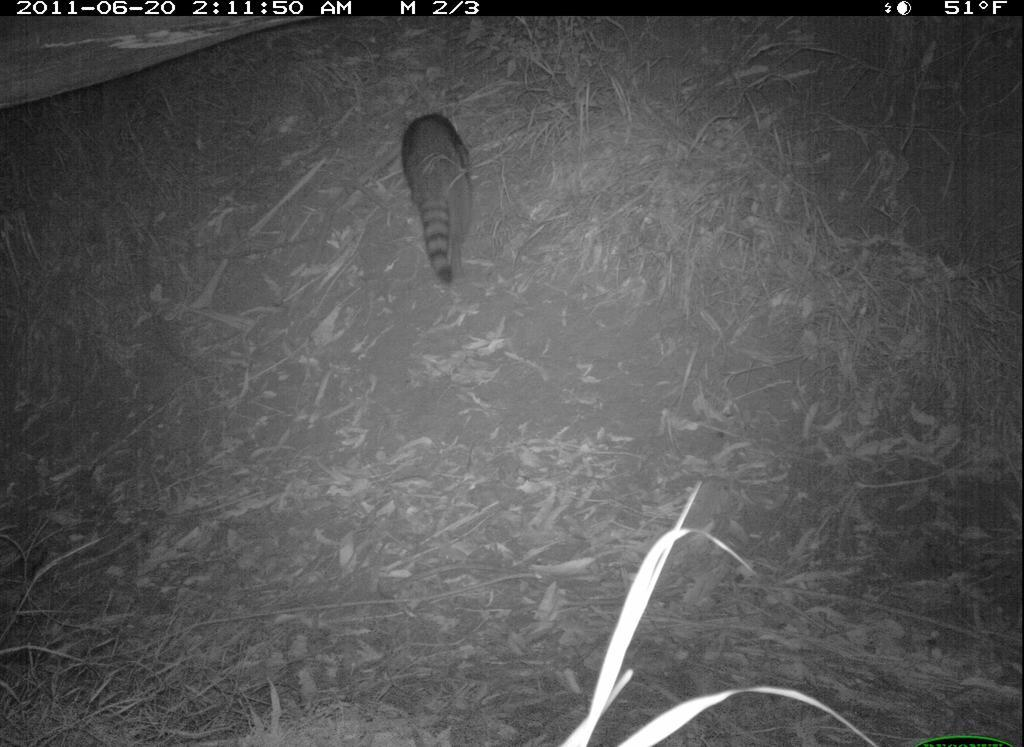raccoon: (395, 105, 483, 291)
